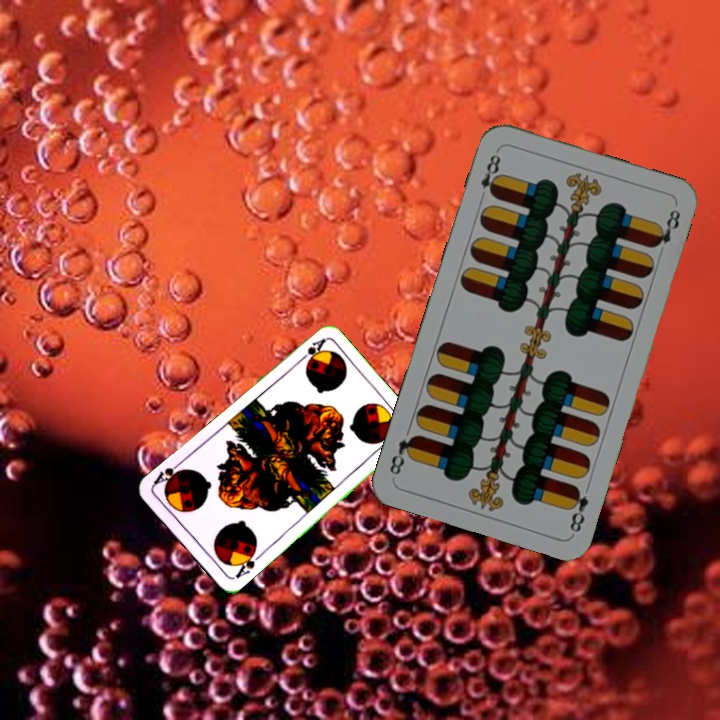E8: (475, 146, 504, 204), (564, 482, 592, 535)
SA: (231, 545, 264, 581), (293, 335, 328, 366)
